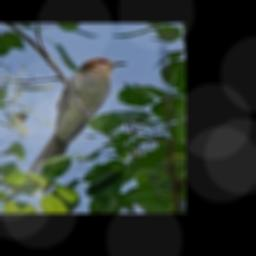Cuckoo: (29, 58, 128, 194)
